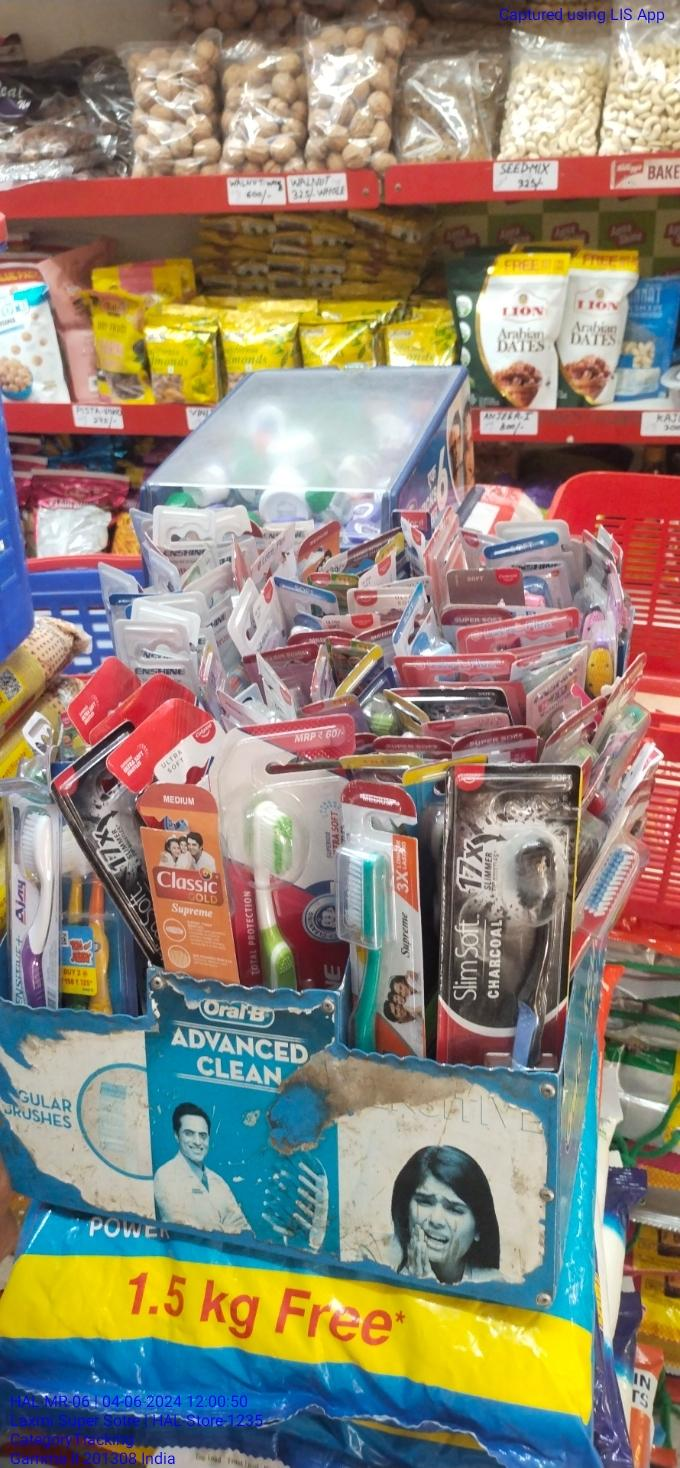soap: (440, 757, 576, 1078)
